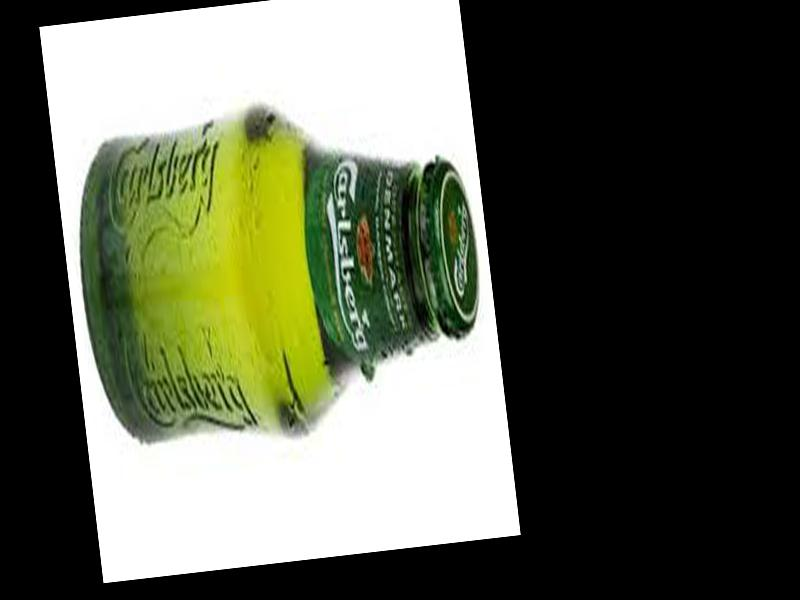Beer: (63, 91, 494, 456)
